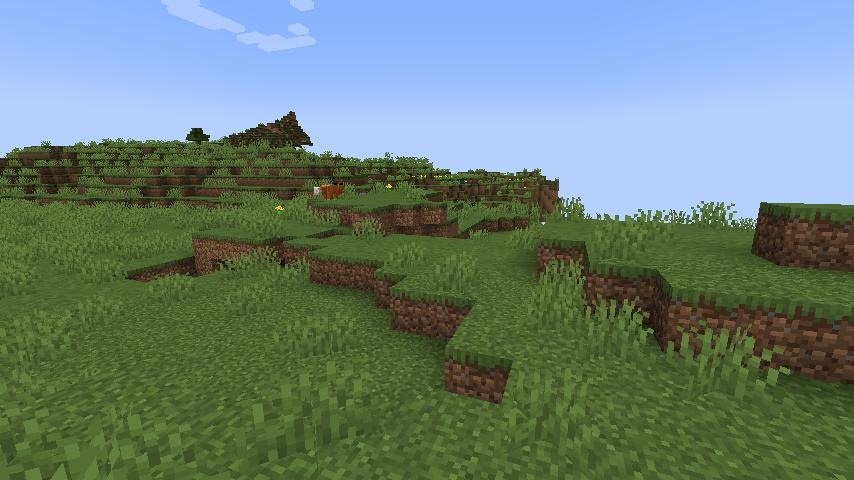fox: (312, 181, 349, 203)
